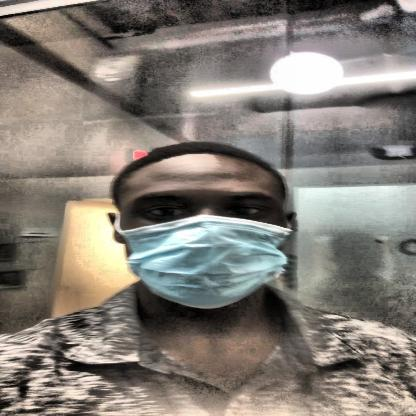not_wear: (107, 140, 297, 310)
